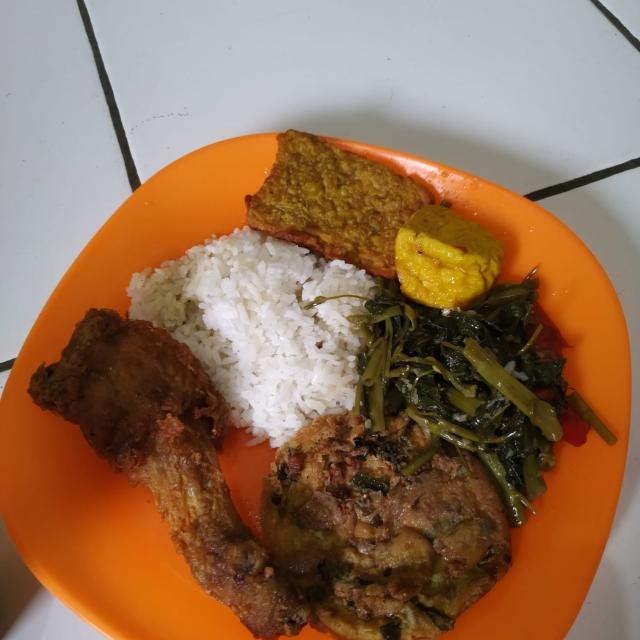ayam_goreng: (23, 300, 332, 630)
nasi_putih: (138, 208, 406, 440)
telur_ayam_dadar: (228, 420, 564, 628)
